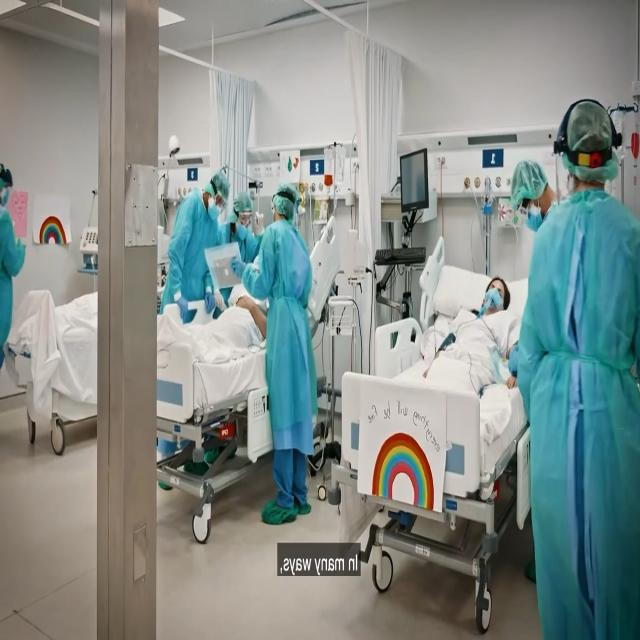Doctor: (252, 172, 314, 524), (158, 148, 234, 298), (507, 145, 552, 235), (231, 175, 260, 239)
Nurse: (508, 71, 638, 640)
Patient: (1, 128, 38, 410), (436, 263, 516, 376)
